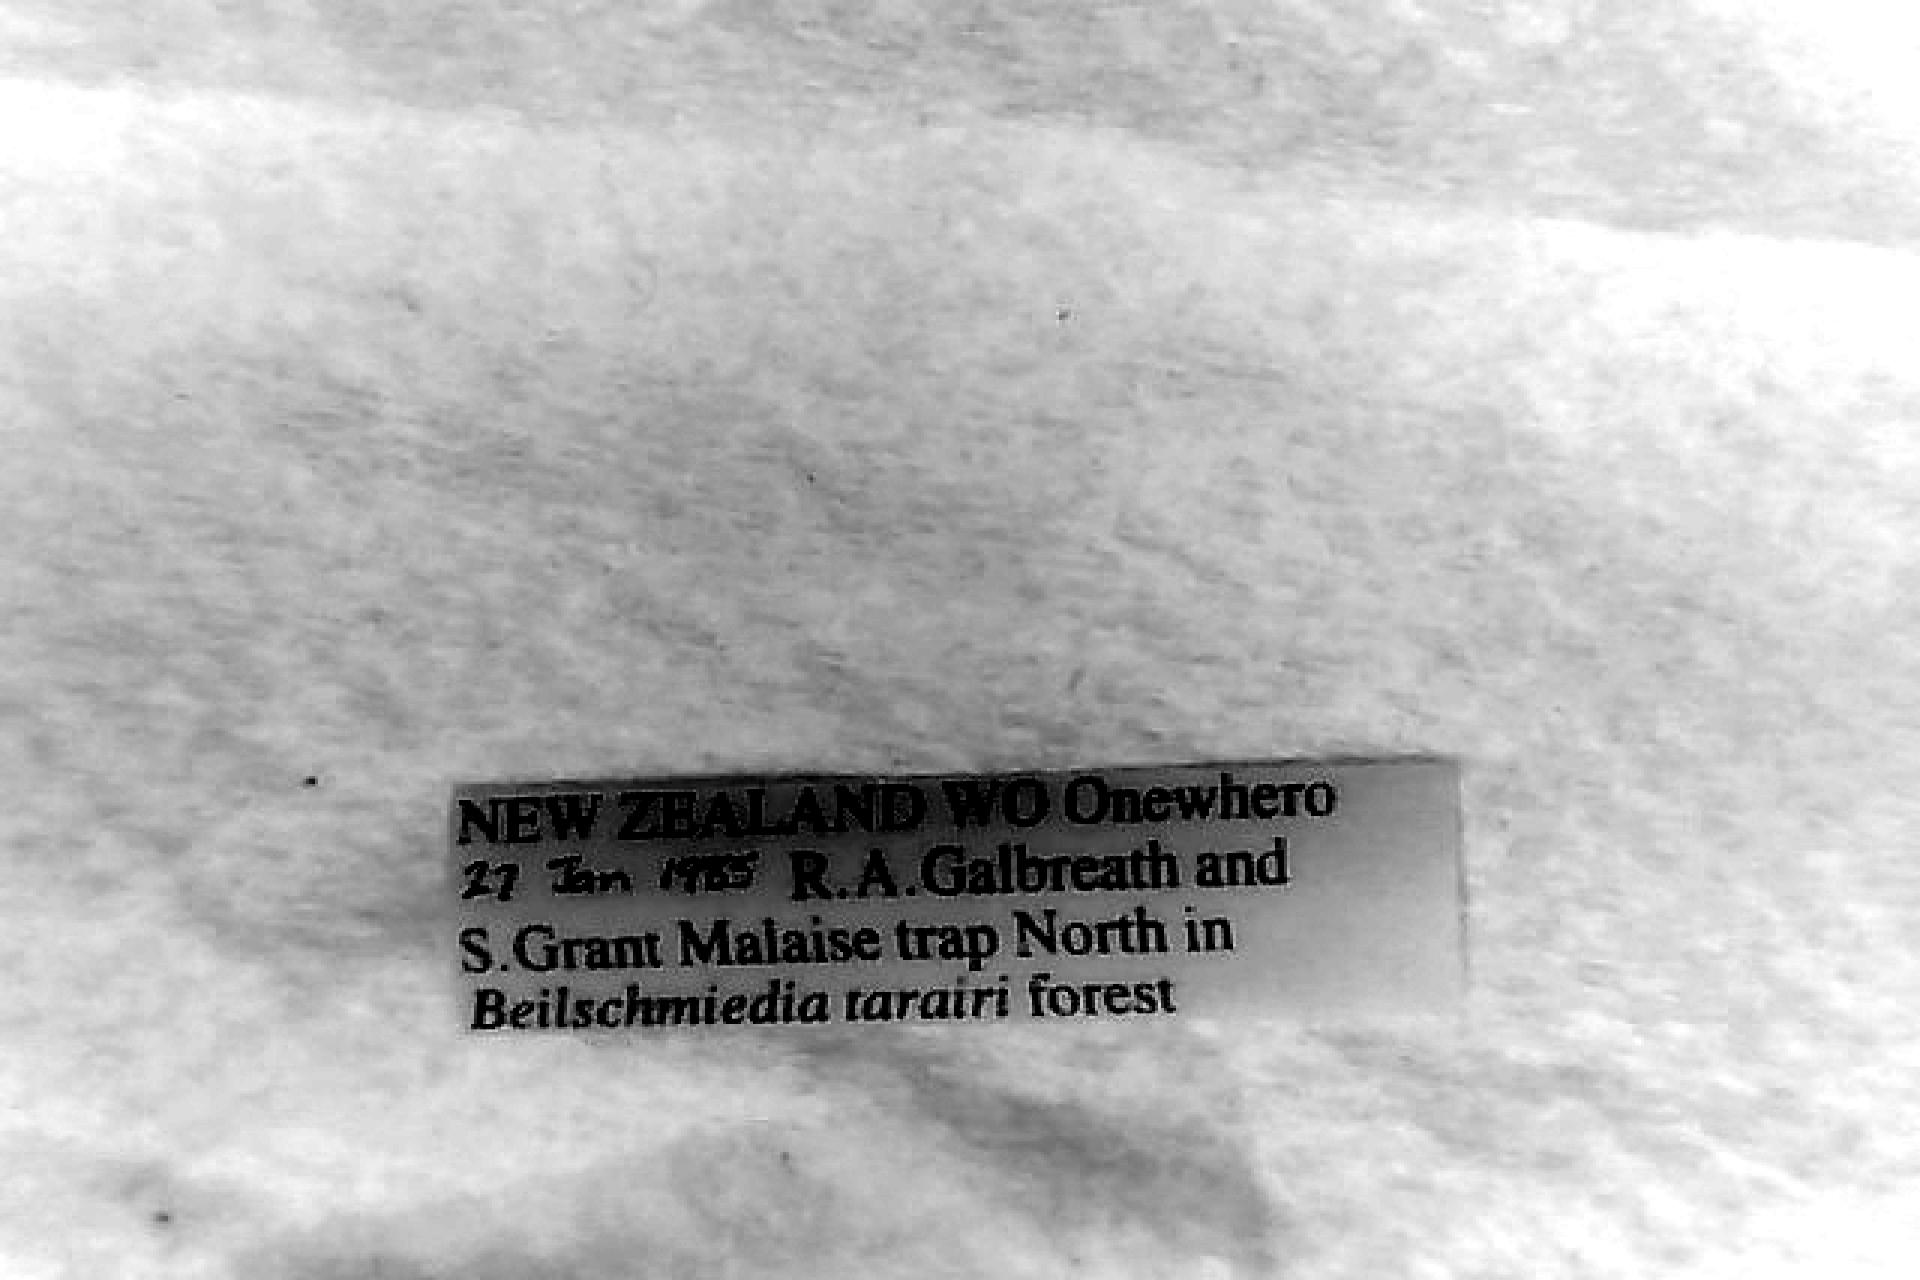mixed_label: (450, 760, 1463, 1031)
